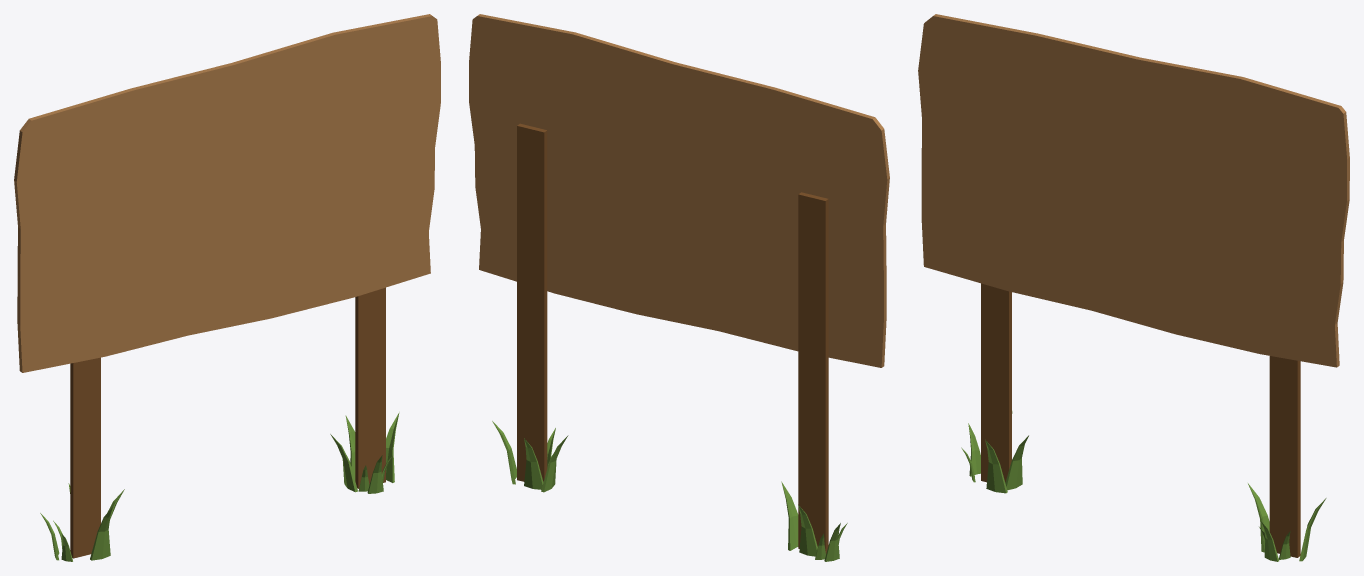
Rendered from Wooden Sign-SzDPlKOhrH.glb.
3 renders of one model, left to right at view 1: azimuth 30°, elevation 25°; view 2: azimuth 150°, elevation 25°; view 3: azimuth 330°, elevation 25°, orthographic. The views are drawn at different scales.
Visible parts, largest first — view 1: Sign8; view 2: Sign8; view 3: Sign8.
Part boxes in pixels (x1,y1,x2,y2): Sign8: (14,14,440,561); Sign8: (469,14,889,561); Sign8: (918,14,1349,561).
Size of the model in its own units: 2.45 by 2.55 by 0.3623.
